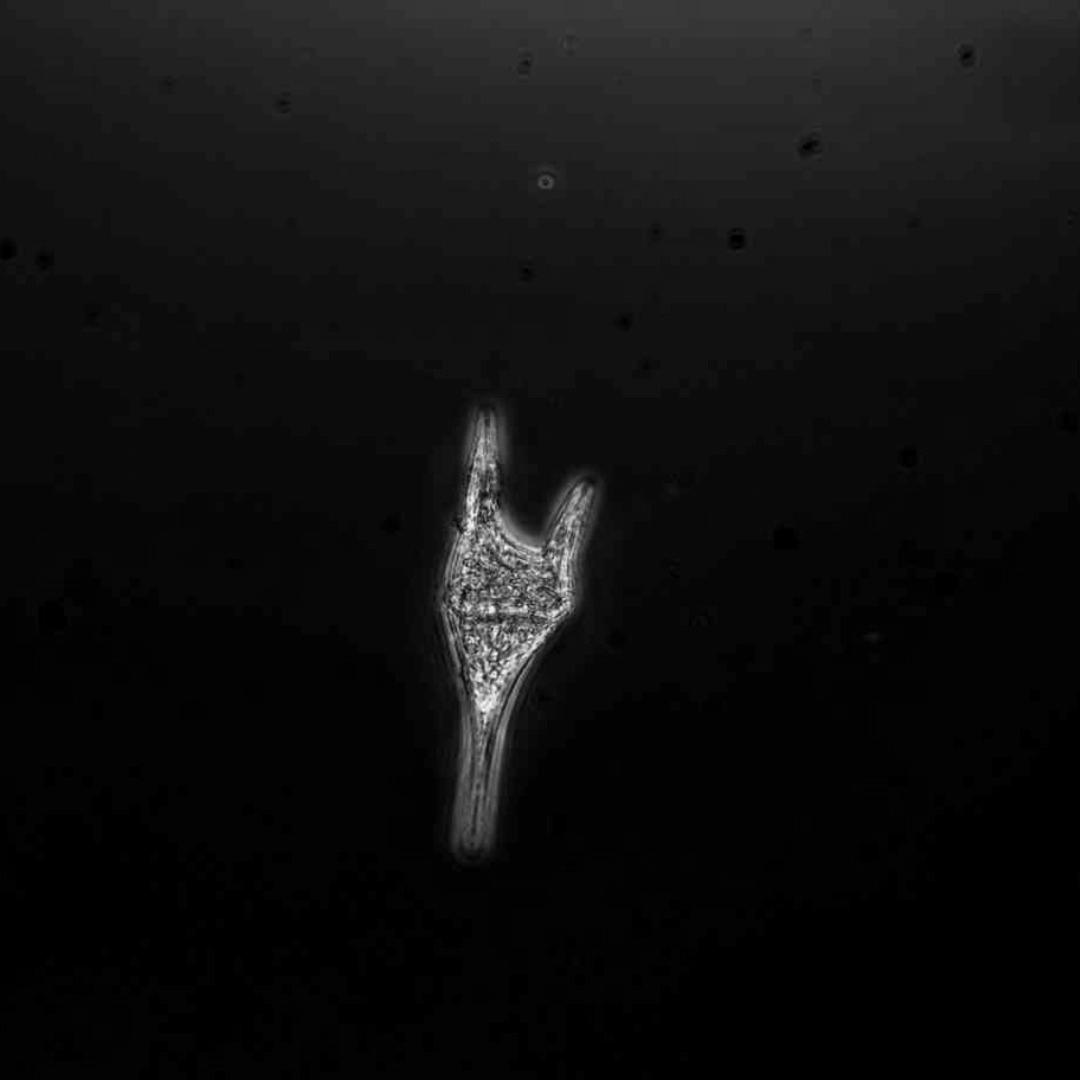ceratium_furca: (446, 402, 598, 859)
